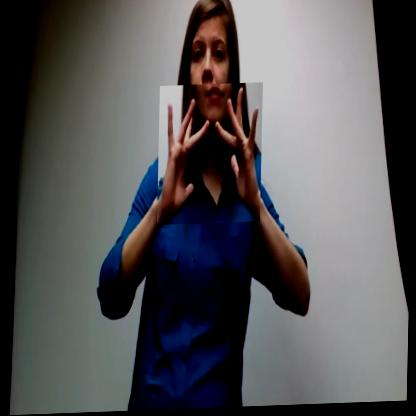Internet: (158, 84, 263, 226)
